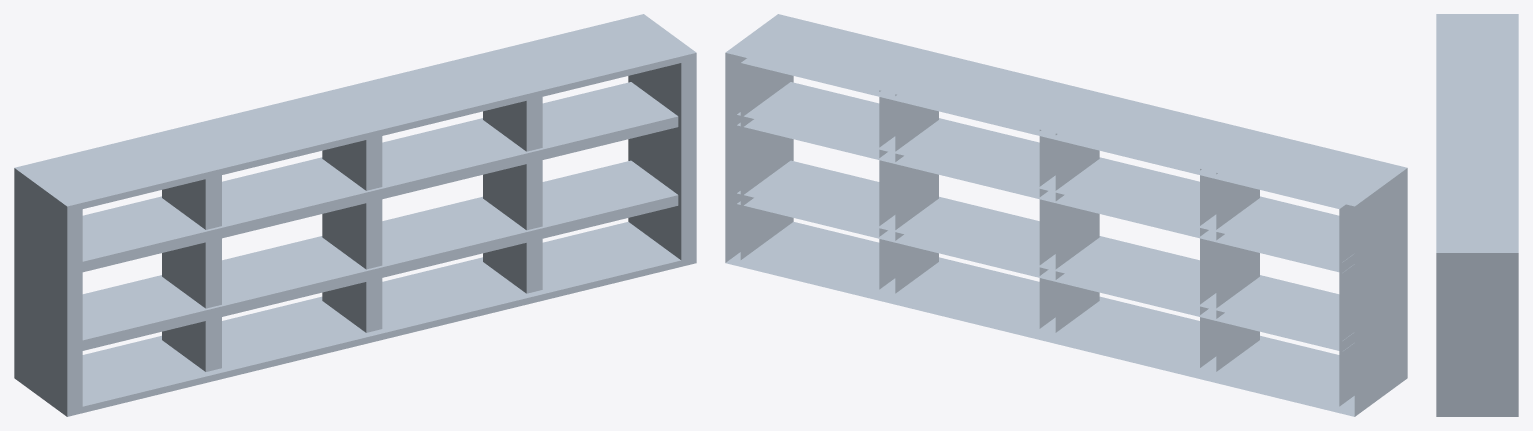
The model's file is windows001.fbx.
3 renders of one model, left to right at view 1: azimuth 30°, elevation 25°; view 2: azimuth 150°, elevation 25°; view 3: azimuth 270°, elevation 25°, orthographic. The views are drawn at different scales.
Parts seen in each view (by area): view 1: Wind001; view 2: Wind001; view 3: Wind001.
Part boxes in pixels (<box>): Wind001: <box>14,14,696,416</box>; Wind001: <box>725,14,1407,416</box>; Wind001: <box>1436,14,1518,416</box>.
Bounding box in the file's own units: 171 × 54.6 × 24.86.
